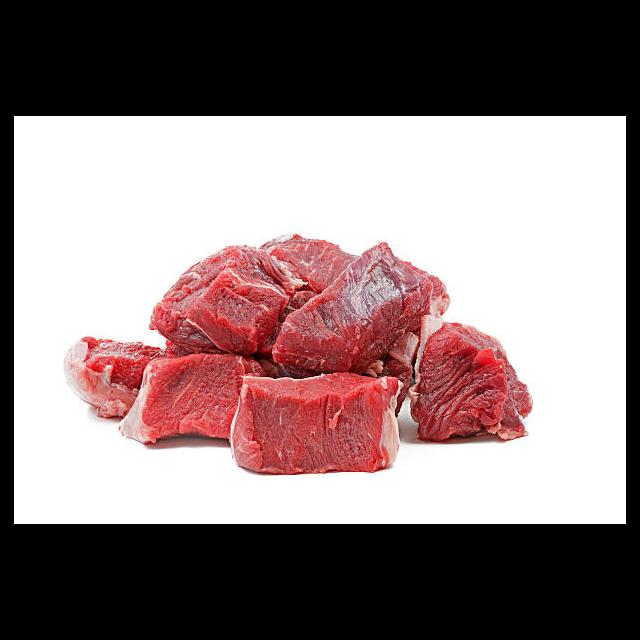beef: (63, 233, 536, 474)
